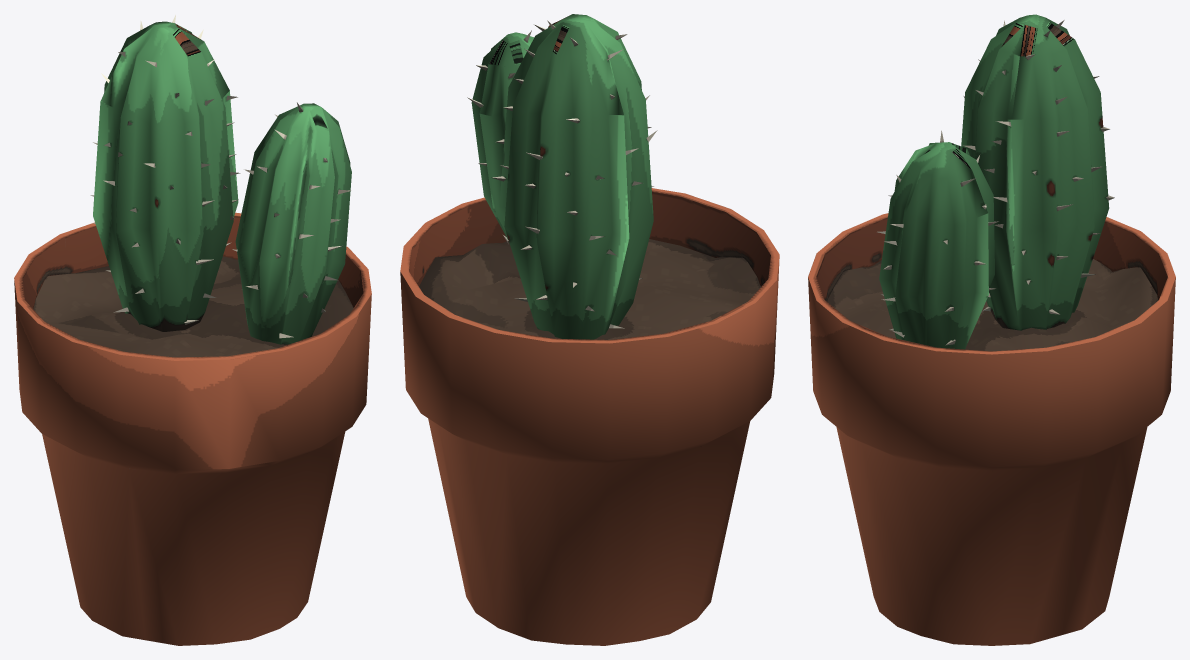
File: cactus2_model.glb
The picture shows the model from 3 angles, left to right: view 1: azimuth 30°, elevation 25°; view 2: azimuth 150°, elevation 25°; view 3: azimuth 270°, elevation 25°; orthographic projection. The views are drawn at different scales.
Visible parts, largest first — view 1: cactus_tall; view 2: cactus_tall; view 3: cactus_tall.
Part boxes in pixels (left/top/right/bottom): cactus_tall: left=14, top=15, right=371, bottom=645; cactus_tall: left=400, top=14, right=779, bottom=645; cactus_tall: left=808, top=14, right=1175, bottom=645.
Bounding box in the file's own units: 0.0811 × 0.1398 × 0.0811.
1 material, 1 textured.
